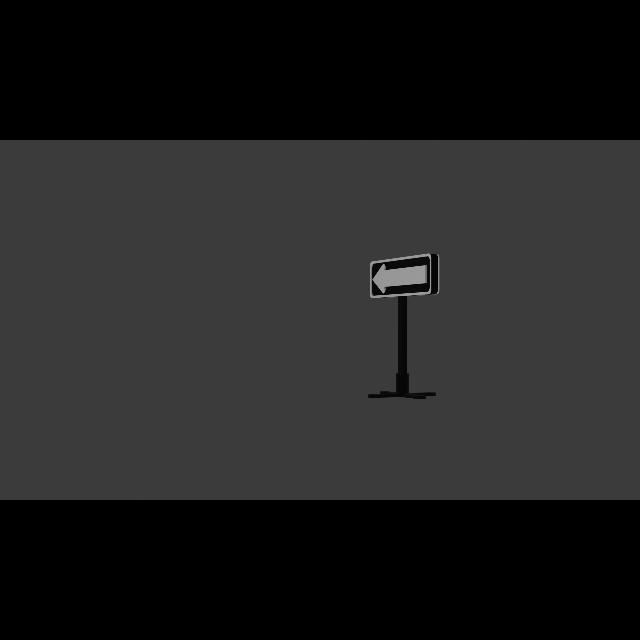sign_oneway_left: (370, 253, 440, 299)
